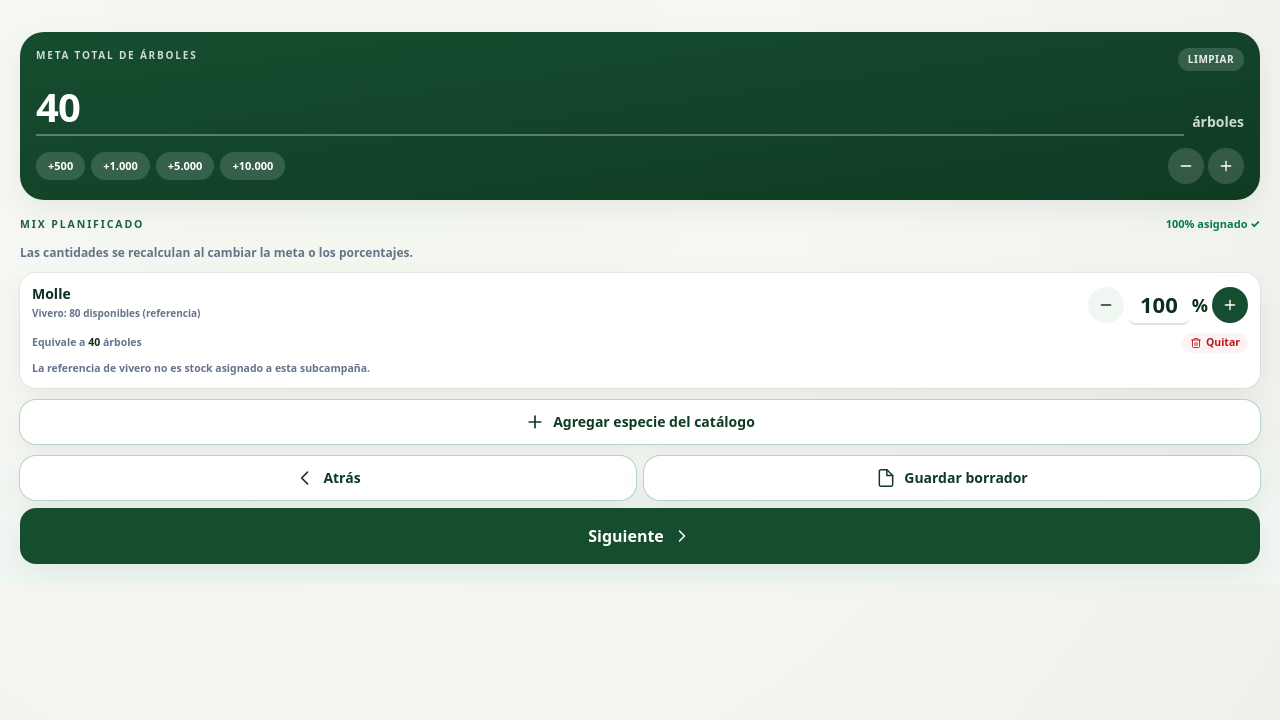
Test case: Plan coherente del asistente de subcampaña › explica los formatos inválidos y conserva el texto sin guardar ni transformarlo
The width and height of the screenshot is (1280, 720).
Step 1. Replace the text in the field labelled "Meta total de árboles" with "1.5" → (610, 108), box x1=36 y1=79 x2=1184 y2=136
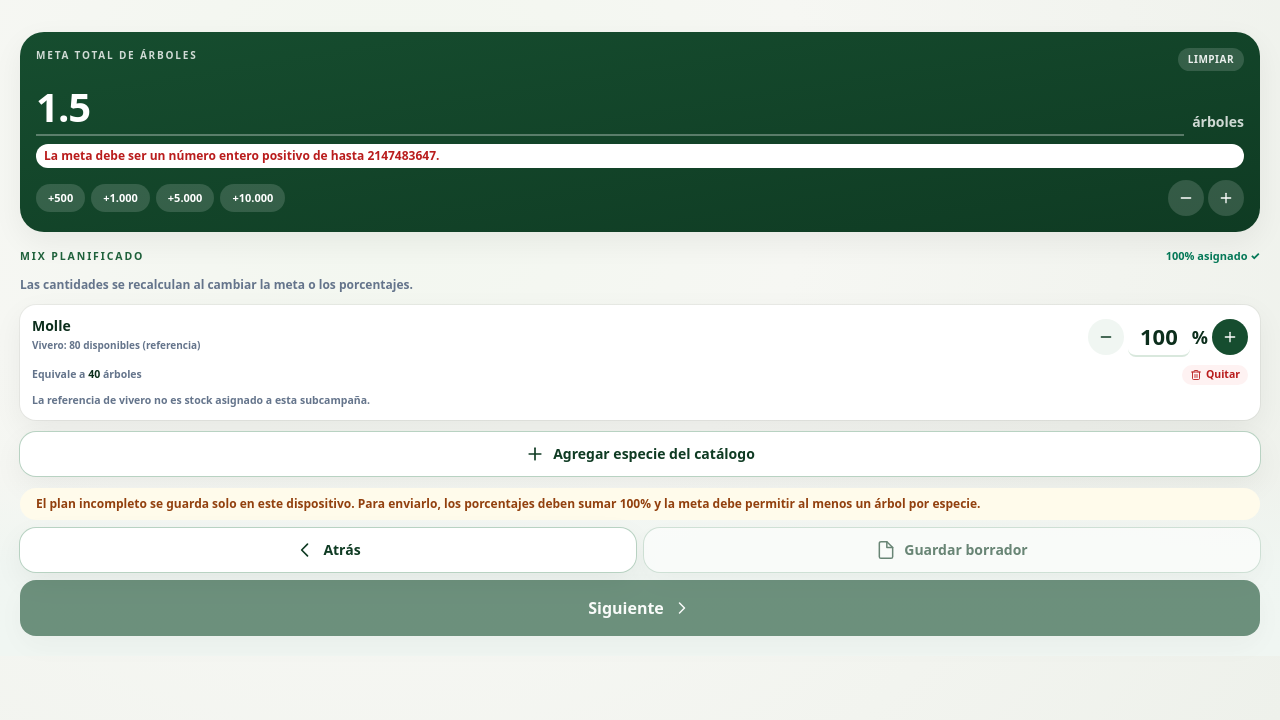
Result: the text "La meta debe ser un número entero positivo" is shown at x1=44 y1=147 x2=440 y2=164
Step 2. Replace the text in the field labelled "Meta total de árboles" with "60" → (610, 108), box x1=36 y1=79 x2=1184 y2=136
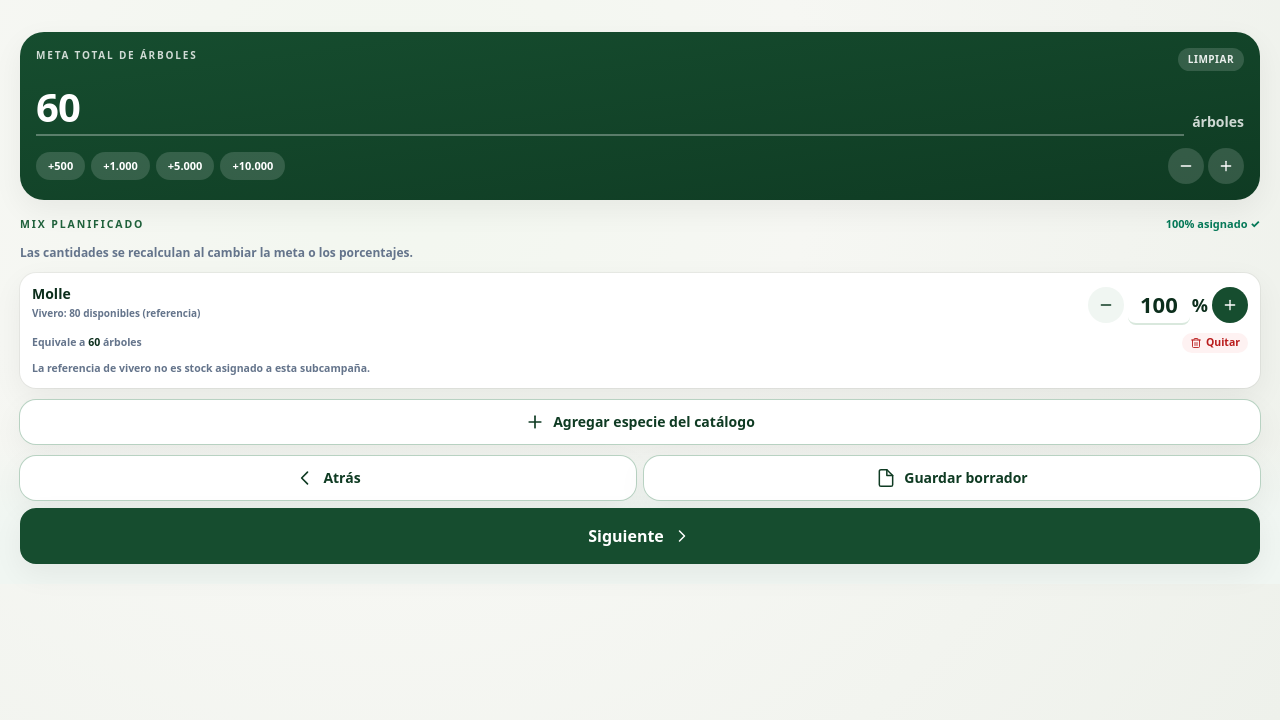
Step 3. Replace the text in the field named "Porcentaje propuesto de Molle" with "33.333" → (1159, 305), box x1=1128 y1=285 x2=1190 y2=325
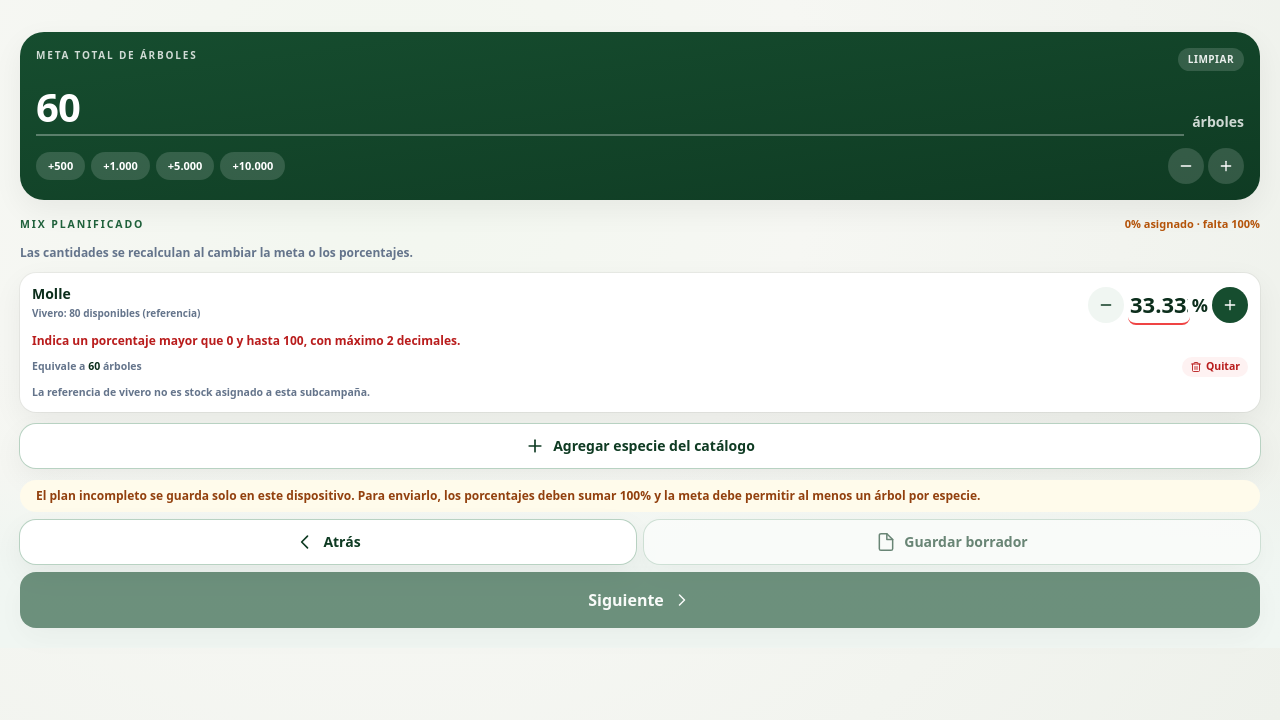
Result: the text "con máximo 2 decimales" is shown at x1=32 y1=332 x2=460 y2=349
Result: the button "Guardar borrador" is disabled at x1=644 y1=520 x2=1260 y2=564
Result: the button "Siguiente" is disabled at x1=20 y1=572 x2=1260 y2=628
